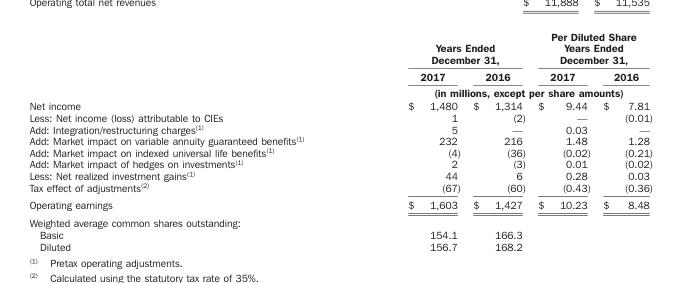table: (28, 29, 652, 251)
table column: (28, 29, 355, 251), (355, 29, 466, 251), (466, 29, 531, 251), (531, 29, 596, 251), (596, 29, 652, 251)
table column header: (28, 29, 652, 99)
table projected row header: (28, 213, 652, 228)
table row: (28, 29, 652, 67), (28, 195, 652, 213), (28, 67, 652, 84), (28, 84, 652, 99), (28, 213, 652, 228), (28, 181, 652, 195), (28, 99, 652, 111), (28, 122, 652, 134), (28, 134, 652, 146), (28, 157, 652, 169), (28, 169, 652, 181), (28, 239, 652, 251), (28, 111, 652, 122), (28, 146, 652, 157), (28, 228, 652, 239)
table spanning cell: (355, 29, 531, 67), (531, 29, 652, 67), (355, 84, 652, 99)
